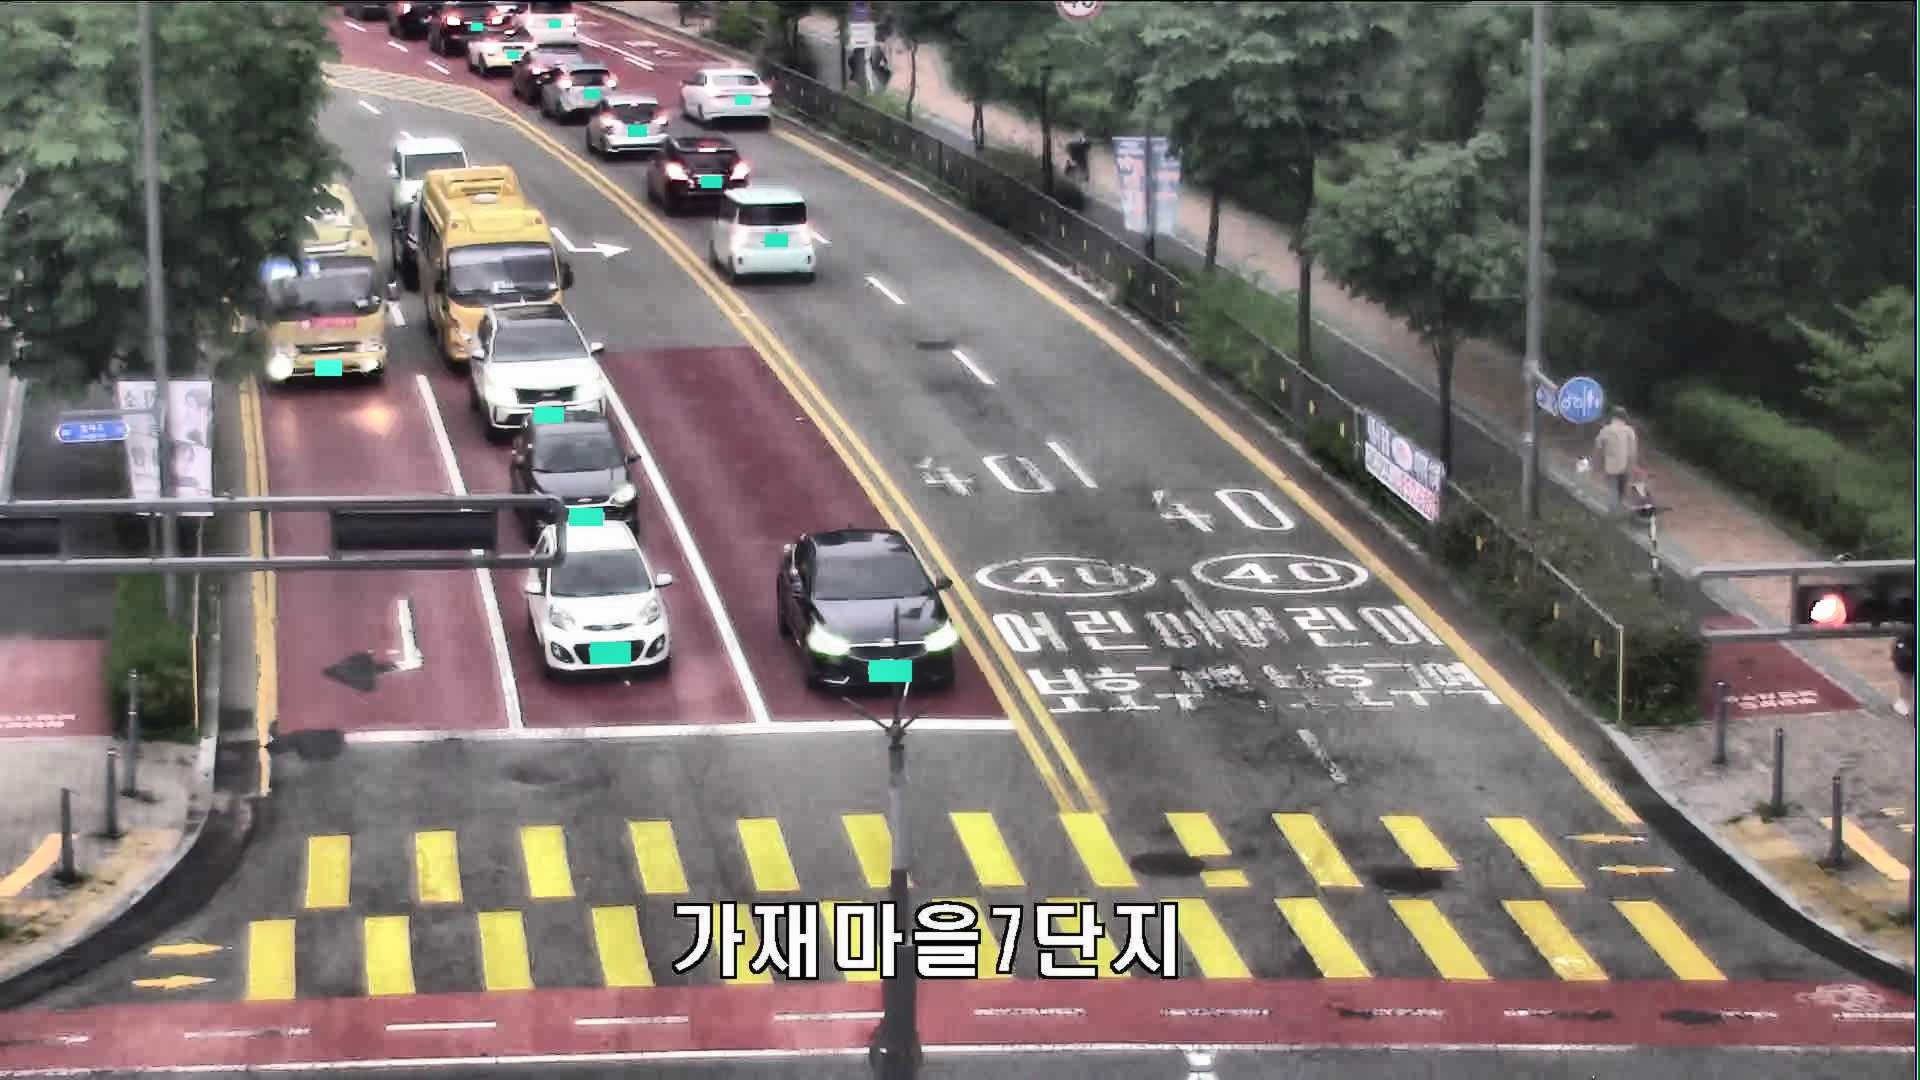sidewalk: (1593, 404, 1636, 512)
